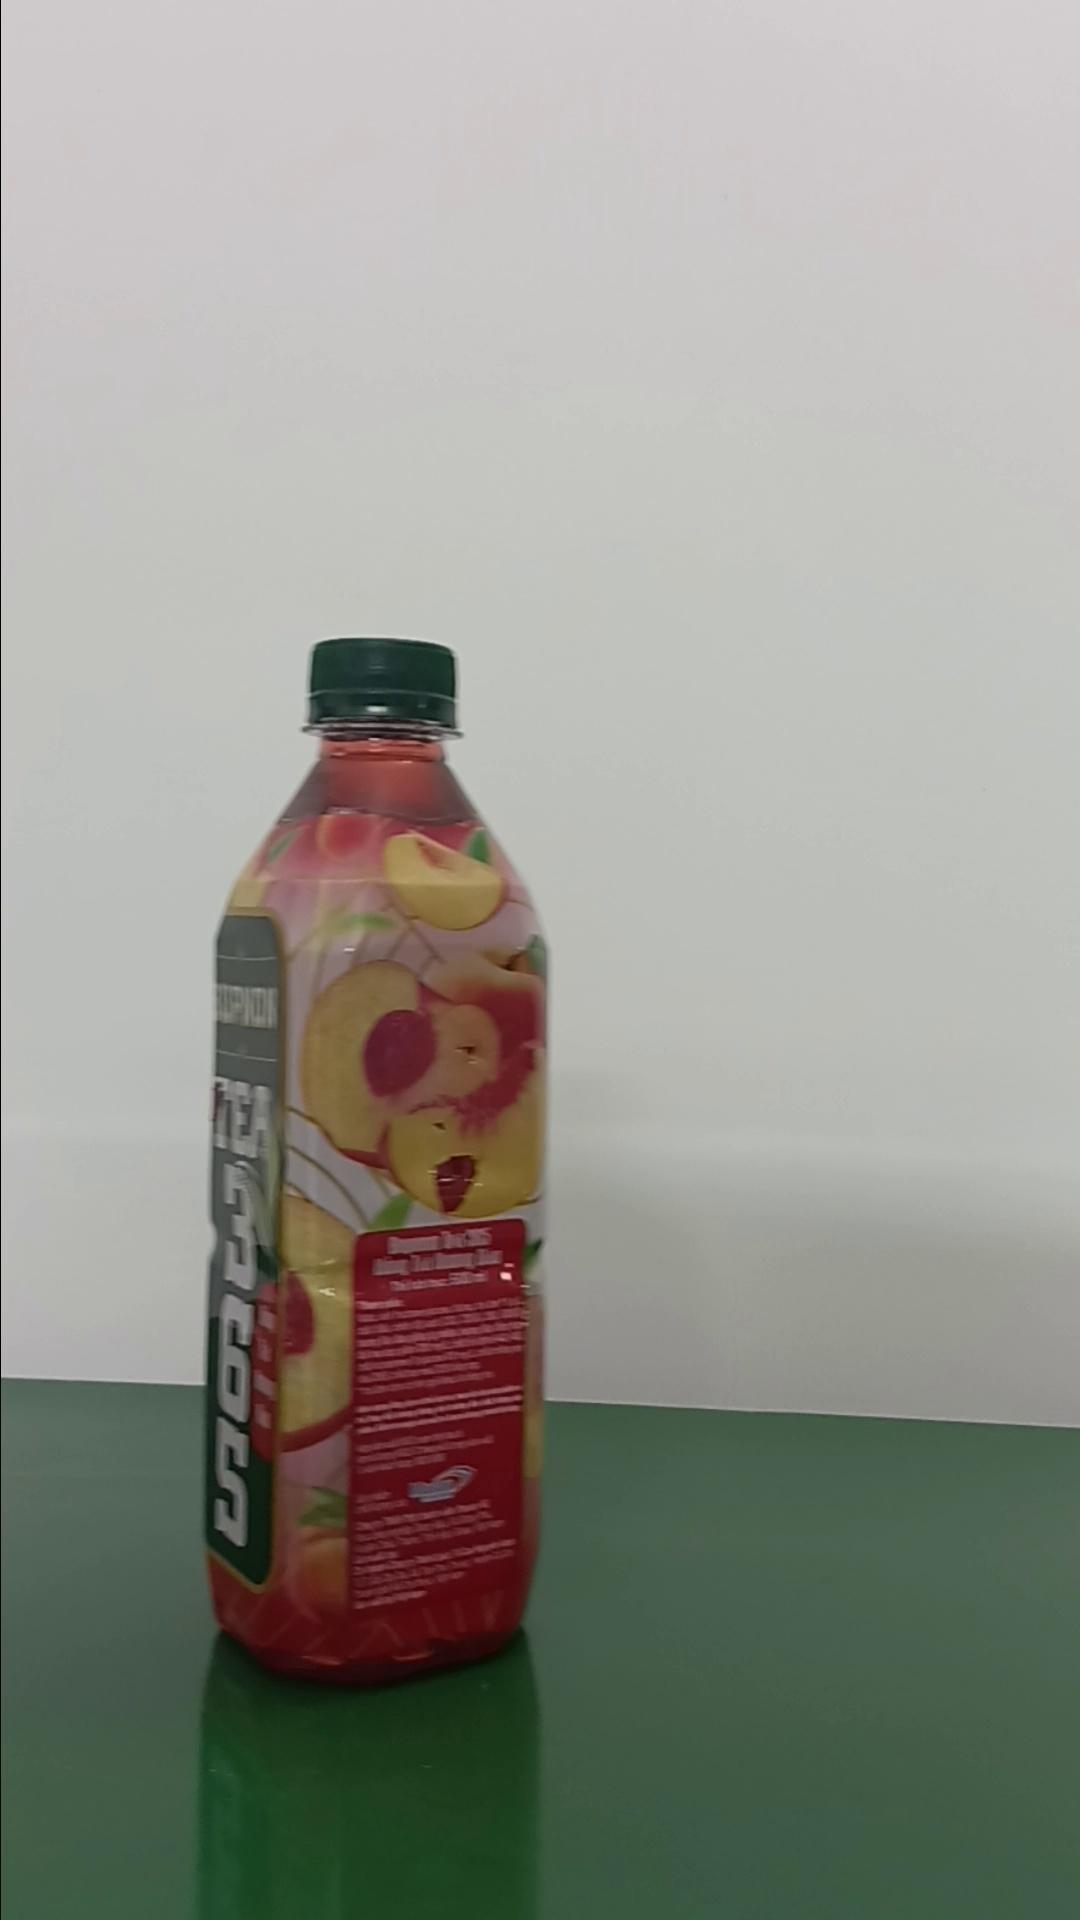loi rach va lap chai: (204, 634, 549, 1680)
